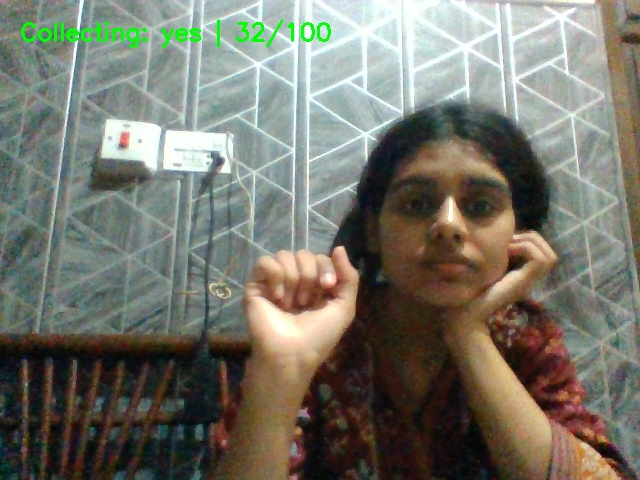yes: (232, 239, 385, 411)
